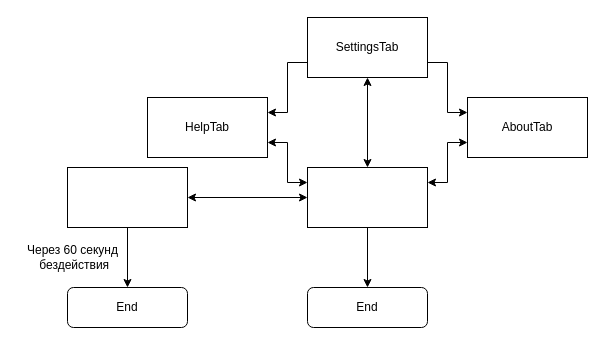
Image size: 605x345. Some labels were removed from this diagram. The shapes that lost their labels are listed below. From the top down, each one's centre as x and y in pixels, then its label:
(x=127, y=197): TittleTab
(x=367, y=197): MainTab
